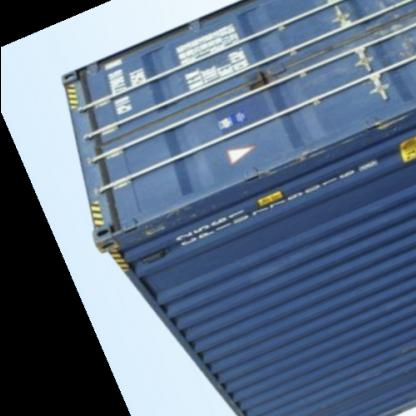Damage: (337, 20, 415, 66), (124, 192, 202, 238)
